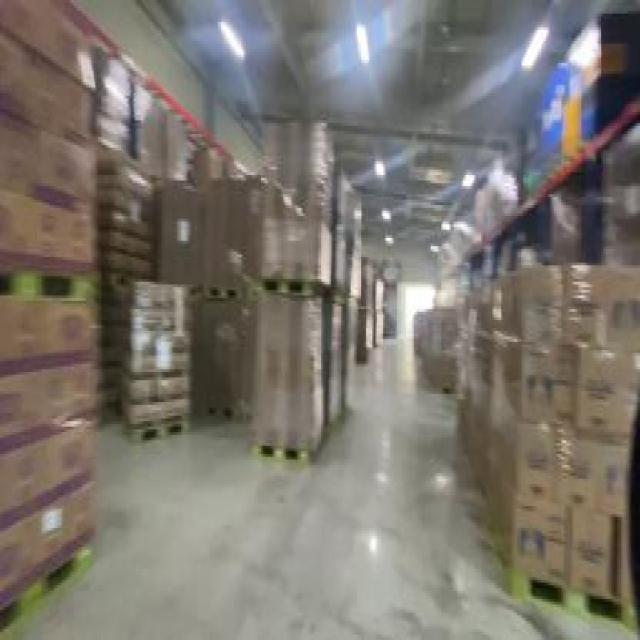box: (452, 263, 637, 626), (102, 49, 258, 440), (0, 2, 95, 634), (262, 115, 362, 470), (534, 11, 634, 153), (409, 303, 466, 394), (363, 260, 385, 358)
